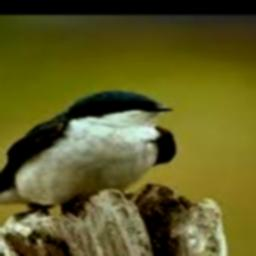Swallow: (0, 90, 175, 214)
